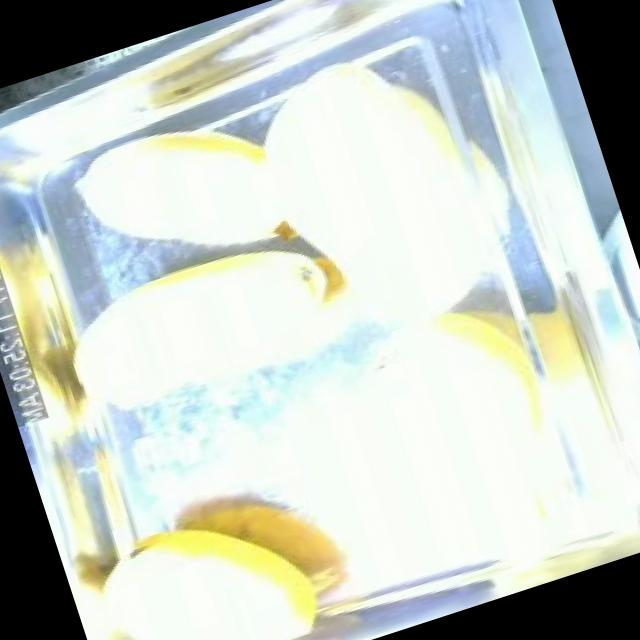fruit: (49, 72, 306, 259), (94, 464, 351, 640)
